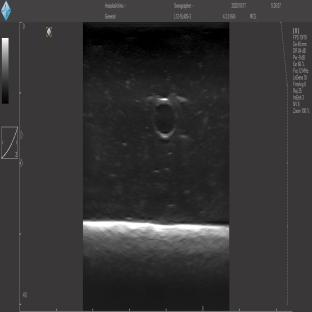vessel: (151, 98, 177, 139)
